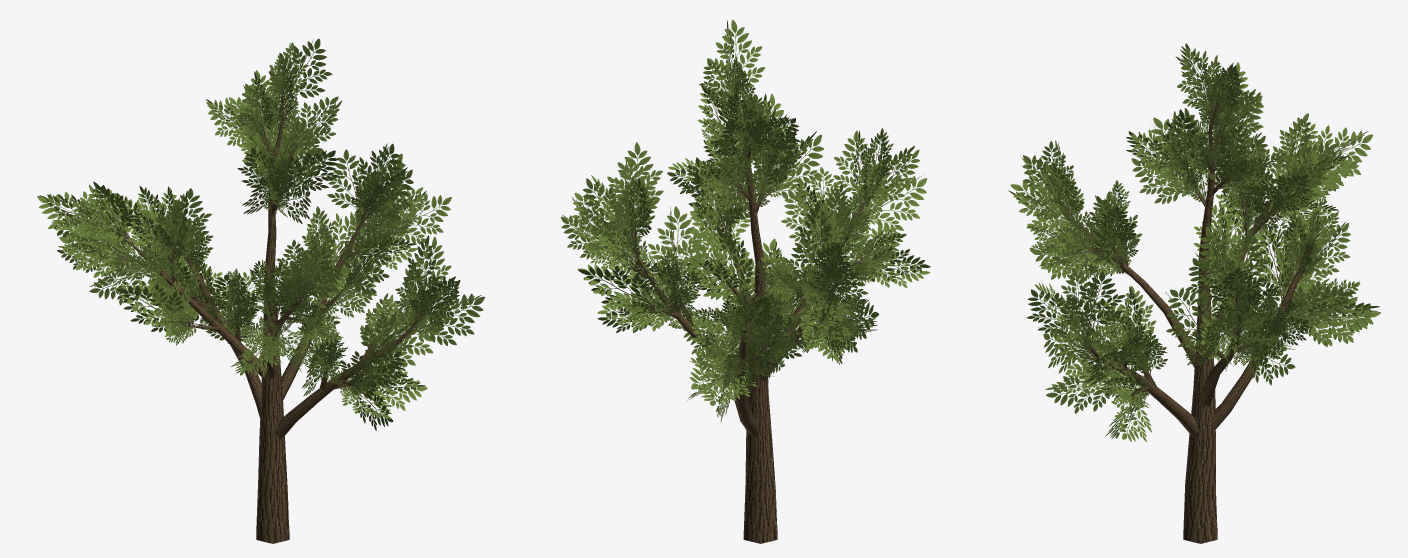
Rendered from Tree4.gltf.
The picture shows the model from 3 angles, left to right: view 1: azimuth 30°, elevation 25°; view 2: azimuth 150°, elevation 25°; view 3: azimuth 270°, elevation 25°; orthographic projection. The views are drawn at different scales.
Visible parts, largest first — view 1: leaves.004, trunk.004; view 2: leaves.004, trunk.004; view 3: leaves.004, trunk.004.
Part boxes in pixels (x1,y1,x2,y2): leaves.004: (37, 38, 484, 430); trunk.004: (117, 92, 417, 543); leaves.004: (561, 19, 930, 422); trunk.004: (627, 99, 870, 543); leaves.004: (1008, 43, 1380, 442); trunk.004: (1060, 97, 1310, 543).
Size of the model in its own units: 94.47 by 120 by 85.21.
Materials: 2 (2 with a texture image).
